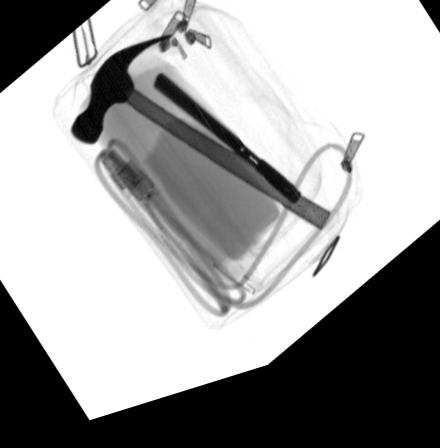Hammer: (69, 45, 330, 249)
Pliers: (153, 79, 302, 223)
